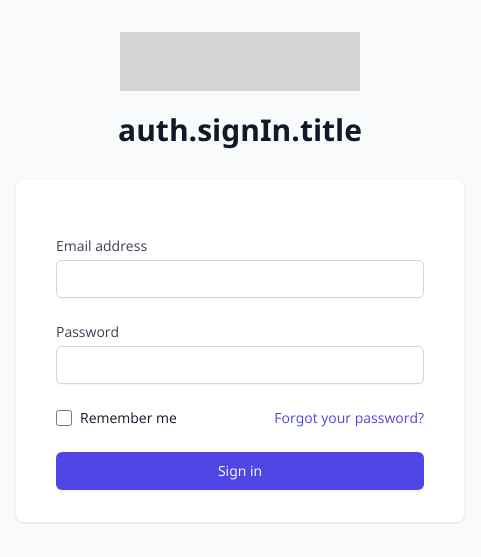
Test: Sign in › should display matching error when email is invalid
Type "test" into the field labelled "Email address" at (240, 279), box [56, 260, 424, 298]
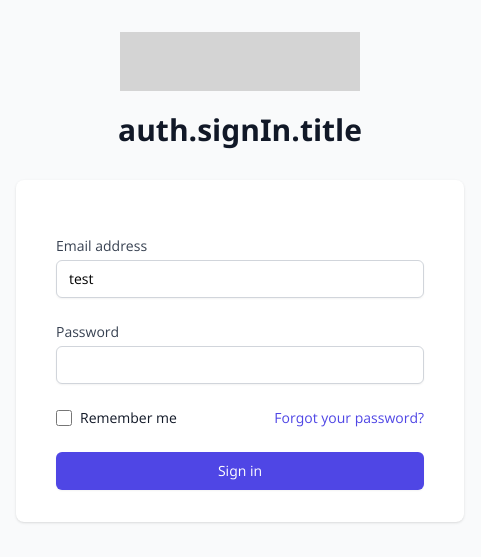
Type "123456" into the password field labelled "Password" at (240, 365), box [56, 346, 424, 384]
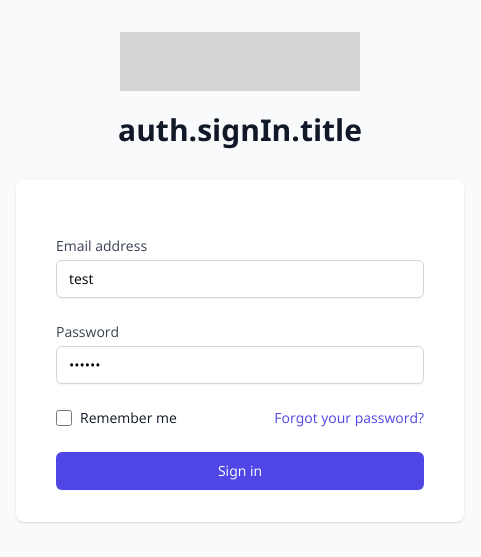
Submit the form from the button "Sign in", box [56, 452, 424, 490]
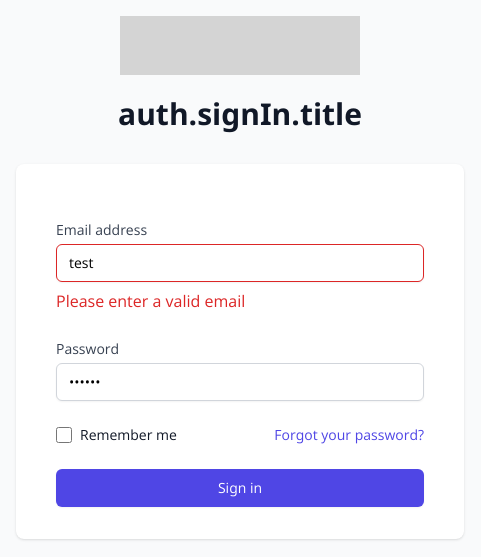
Check: the number of messages is 1, box [56, 290, 245, 312]
